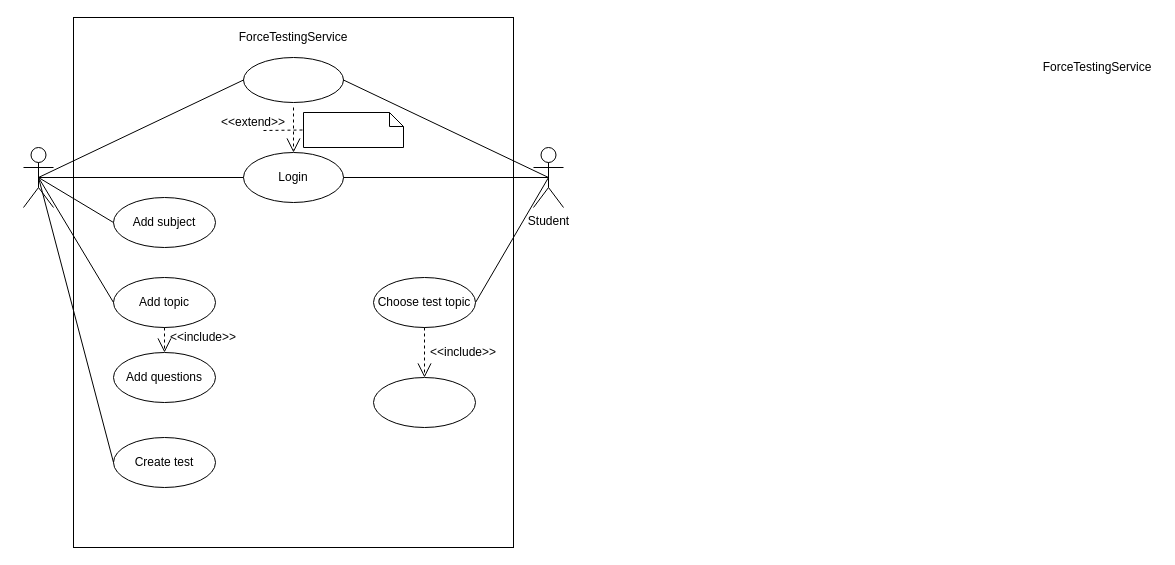
Image size: 1175x565. Some labels were removed from this diagram. The shapes that lost their labels are listed below. From the top down, each one's centre as x and y in pixels, then its label:
At (293,79): "Register".
At (353,130): "{if account is missing}".
At (38,177): "Teacher".
At (424,402): "Answer questions".
